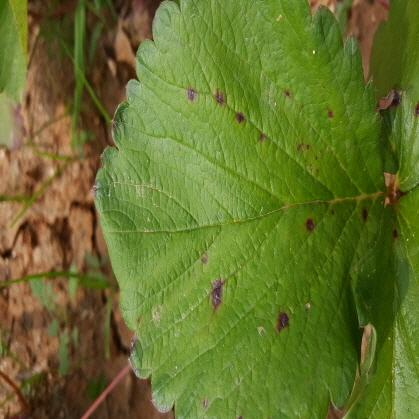Leaf Spot: (91, 0, 391, 418), (340, 190, 419, 418), (366, 0, 418, 192)
